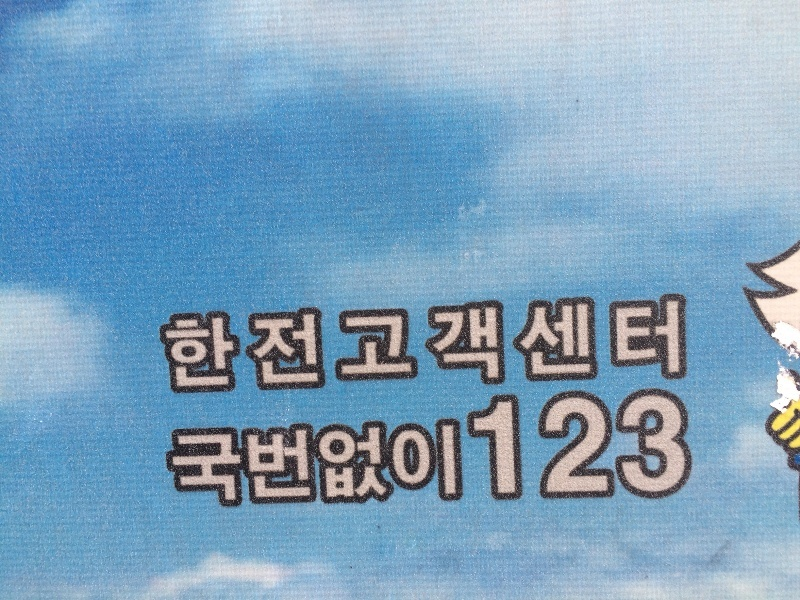text: (673, 287, 689, 401), (465, 387, 480, 503), (481, 387, 496, 503), (497, 387, 512, 503), (513, 387, 528, 503), (529, 387, 544, 503), (545, 387, 560, 503), (561, 387, 576, 503), (577, 387, 592, 503), (593, 387, 608, 503), (609, 387, 624, 503), (625, 387, 640, 503), (641, 387, 656, 503), (657, 387, 672, 503), (673, 387, 688, 503), (161, 287, 176, 401), (177, 287, 192, 401), (193, 287, 208, 401), (209, 287, 224, 401), (225, 287, 240, 401), (241, 287, 256, 401), (257, 287, 272, 401), (273, 287, 288, 401), (289, 287, 304, 401), (305, 287, 320, 401), (321, 287, 336, 401), (337, 287, 352, 401), (353, 287, 368, 401), (369, 287, 384, 401), (385, 287, 400, 401), (401, 287, 416, 401), (417, 287, 432, 401), (433, 287, 448, 401), (449, 287, 464, 401), (465, 287, 480, 401), (481, 287, 496, 401), (497, 287, 512, 401), (513, 287, 528, 401), (529, 287, 544, 401), (545, 287, 560, 401), (561, 287, 576, 401), (577, 287, 592, 401), (593, 287, 608, 401), (609, 287, 624, 401), (625, 287, 640, 401), (641, 287, 656, 401), (657, 287, 672, 401), (177, 414, 192, 513), (193, 414, 208, 513), (209, 414, 224, 513), (225, 414, 240, 513), (241, 414, 256, 513), (257, 414, 272, 513), (273, 414, 288, 513), (289, 414, 304, 513), (305, 414, 320, 513), (321, 414, 336, 513), (337, 414, 352, 513), (353, 414, 368, 513), (369, 414, 384, 513), (385, 414, 400, 513), (401, 414, 416, 513), (417, 414, 432, 513), (433, 414, 448, 513), (162, 414, 176, 513), (449, 414, 462, 513), (689, 387, 692, 503), (157, 287, 160, 401)
